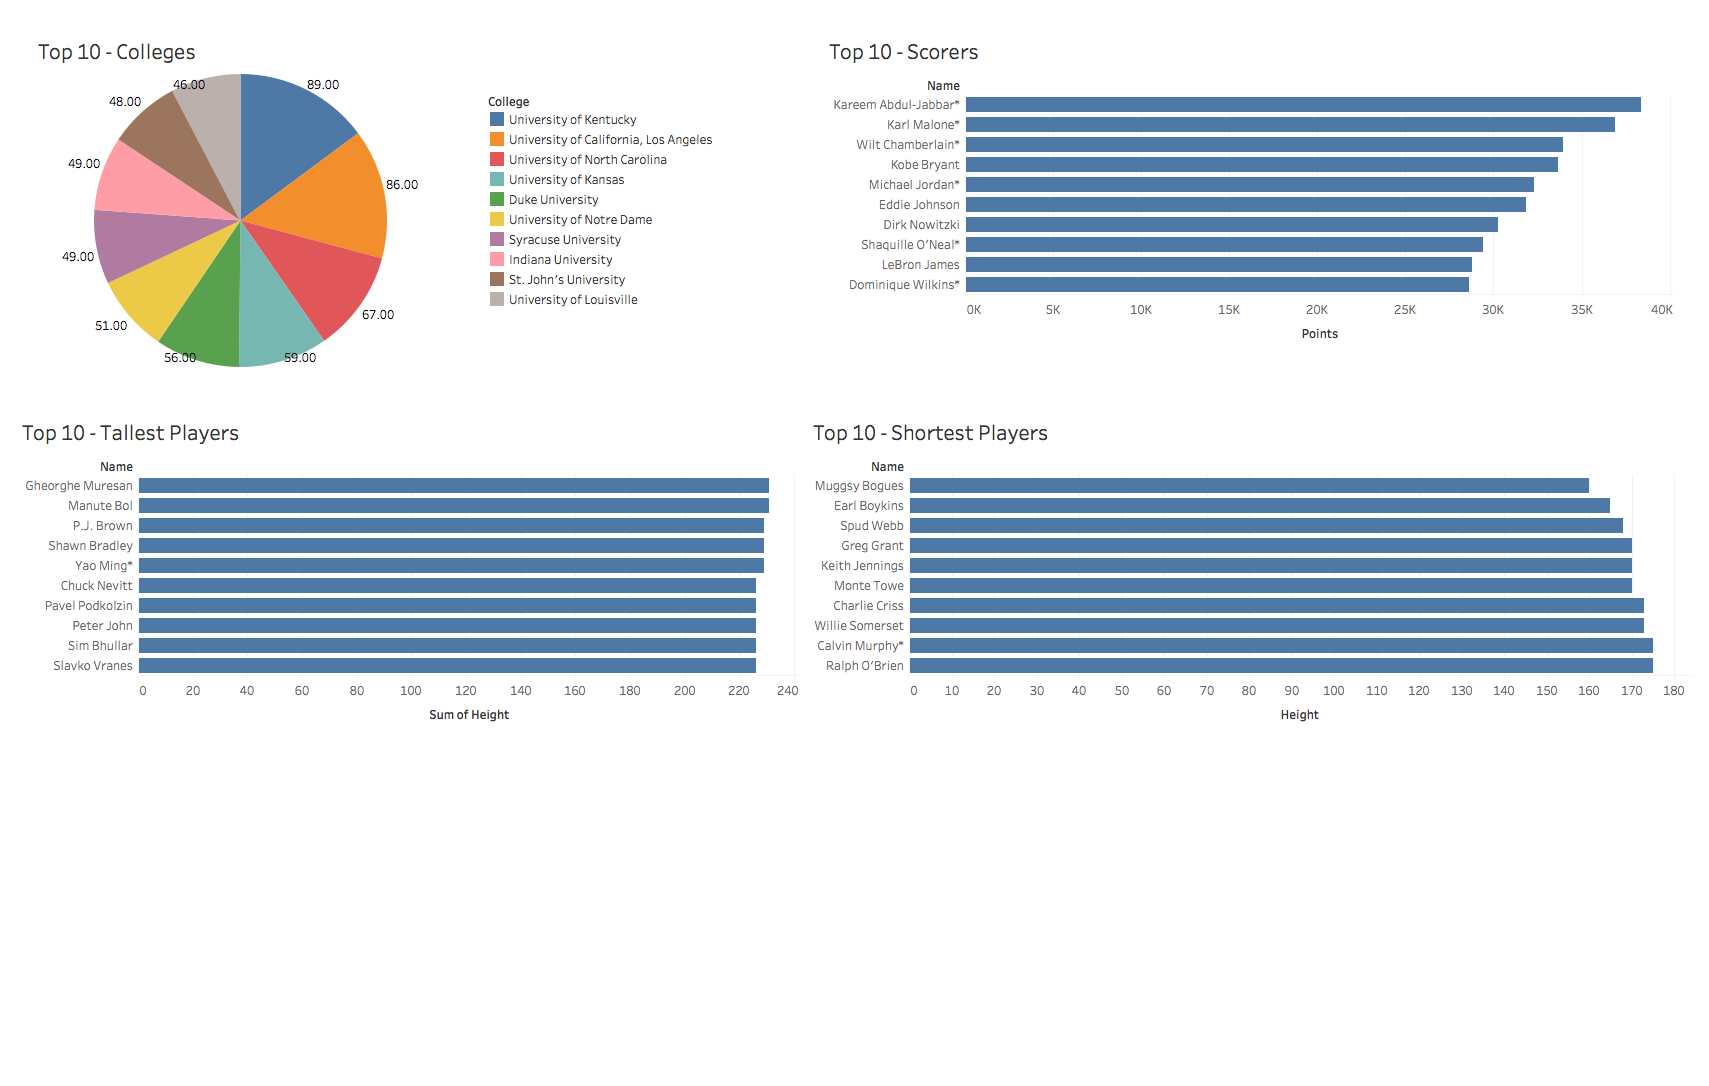

This screenshot's page, from the dashboard's own definition file:
{"tool":"tableau","page":{"name":"Dashboard 1","canvas":[1000,1000],"units":"permille","ordinal":0},"visuals":[{"type":"worksheet","title":"Sheet 2","mark":"Pie","box":[8,10,265.3,365.8]},{"type":"legend","title":"Sheet 2","param":"[federated.110lg2j0i06ort1ejrsnn0et4u6u].[none:college:nk]","box":[273.3,10,197.8,365.8]},{"type":"worksheet","title":"Sheet 1","mark":"Automatic","rows":["Name"],"cols":["Points"],"box":[471,10,521,365.8]},{"type":"worksheet","title":"Sheet 3","mark":"Automatic","rows":["Name"],"cols":["height"],"box":[8,375.8,463,615.4]},{"type":"worksheet","title":"Sheet 4","mark":"Automatic","rows":["Name"],"cols":["height"],"box":[471,375.8,521,615.4]}]}

Visuals, with their boxes on the dashboard's canvas, which has no fixed pixel size, in thousandths of its width and height (x1, y1, x2, y2). These are canvas units, not pixel positions in the 1709x1086 screenshot, which may show the page scaled, cropped or inside an application window:
"Sheet 2" worksheet (Pie marks): 8:10:273:376
"Sheet 2" legend: 273:10:471:376
"Sheet 1" worksheet: 471:10:992:376
"Sheet 3" worksheet: 8:376:471:991
"Sheet 4" worksheet: 471:376:992:991
